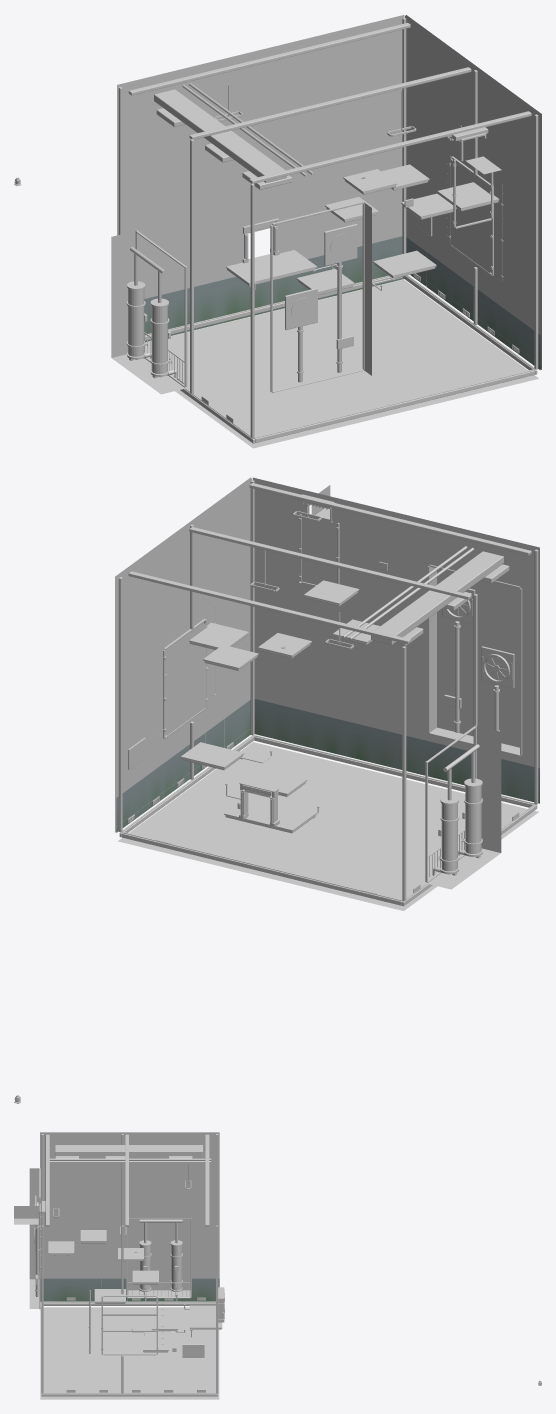
File: room-three-laboratory.glb
3 renders of one model, top to bottom at view 1: azimuth 30°, elevation 25°; view 2: azimuth 150°, elevation 25°; view 3: azimuth 270°, elevation 25°, orthographic. The views are drawn at different scales.
Visible parts, largest first — view 1: R3_Batch_Shell_Cool, R3_Batch_Shell_Graphite, R3_Batch_Shell_Ivory, R3_Batch_Shell_Stained, R3_Batch_Shell_Alloy, R3_Batch_Platforms_Island, R3_Batch_Shell_Sticky, R3_Batch_Platforms_Alloy, R3_Batch_Platforms_Graphite; view 2: R3_Batch_Shell_Graphite, R3_Batch_Shell_Ivory, R3_Batch_Shell_Stained, R3_Batch_Shell_Cool, R3_Batch_Shell_Alloy, R3_Batch_Platforms_Island, R3_Batch_Shell_Sticky, R3_Batch_Platforms_Alloy, R3_Batch_Platforms_Graphite; view 3: R3_Batch_Shell_Graphite, R3_Batch_Shell_Cool, R3_Batch_Shell_Ivory, R3_Batch_Shell_Alloy, R3_Batch_Platforms_Island, R3_Batch_Shell_Stained, R3_Batch_Platforms_Alloy, R3_Batch_Platforms_Graphite.
Part boxes in pixels (x1,y1,x2,y2): R3_Batch_Shell_Cool: [111, 15, 503, 375]; R3_Batch_Shell_Graphite: [112, 15, 541, 448]; R3_Batch_Shell_Ivory: [144, 38, 540, 338]; R3_Batch_Shell_Stained: [144, 236, 540, 369]; R3_Batch_Shell_Alloy: [127, 83, 535, 438]; R3_Batch_Platforms_Island: [228, 165, 497, 291]; R3_Batch_Shell_Sticky: [451, 160, 490, 272]; R3_Batch_Platforms_Alloy: [226, 164, 499, 293]; R3_Batch_Platforms_Graphite: [227, 180, 498, 295]; R3_Batch_Shell_Graphite: [115, 477, 538, 910]; R3_Batch_Shell_Ivory: [116, 477, 539, 836]; R3_Batch_Shell_Stained: [116, 699, 539, 832]; R3_Batch_Shell_Cool: [214, 485, 514, 871]; R3_Batch_Shell_Alloy: [121, 504, 535, 901]; R3_Batch_Platforms_Island: [183, 581, 379, 829]; R3_Batch_Shell_Sticky: [166, 515, 335, 735]; R3_Batch_Platforms_Alloy: [180, 580, 379, 831]; R3_Batch_Platforms_Graphite: [182, 592, 372, 833]; R3_Batch_Shell_Graphite: [29, 1132, 224, 1399]; R3_Batch_Shell_Cool: [14, 1145, 224, 1353]; R3_Batch_Shell_Ivory: [101, 1147, 219, 1278]; R3_Batch_Shell_Alloy: [14, 1158, 224, 1393]; R3_Batch_Platforms_Island: [49, 1230, 221, 1349]; R3_Batch_Shell_Stained: [40, 1278, 219, 1301]; R3_Batch_Platforms_Alloy: [48, 1230, 222, 1350]; R3_Batch_Platforms_Graphite: [49, 1242, 221, 1352].
Size of the model in its own units: 37.02 by 34.95 by 81.06.
